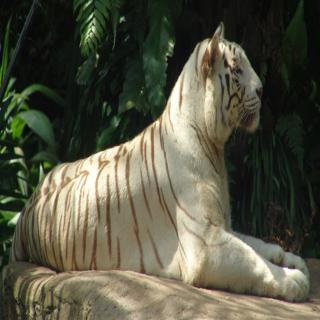Tiger: (7, 22, 313, 300)
